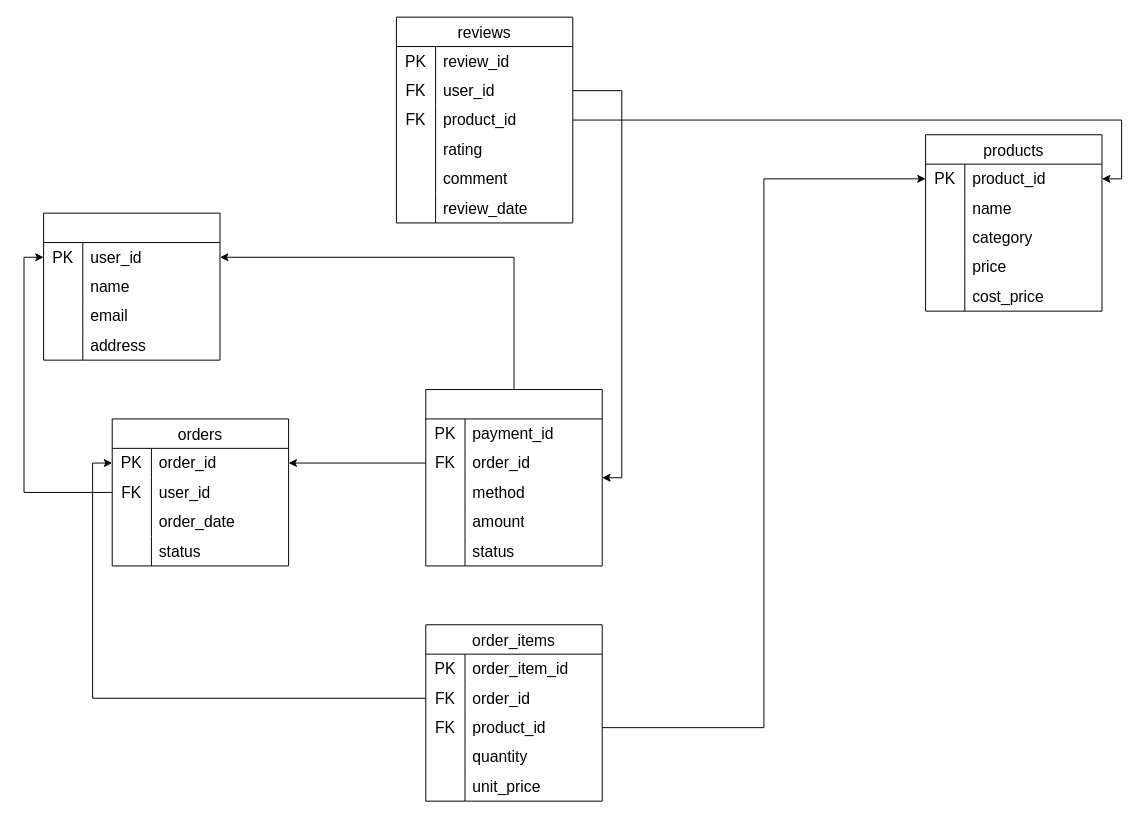
Image size: 1147x818. Some labels were removed from this diagram. The box of each missing label's shape, as (x1, y1, x2, y2) in pixels:
payments: (425, 389, 602, 566)
users: (43, 212, 220, 360)
